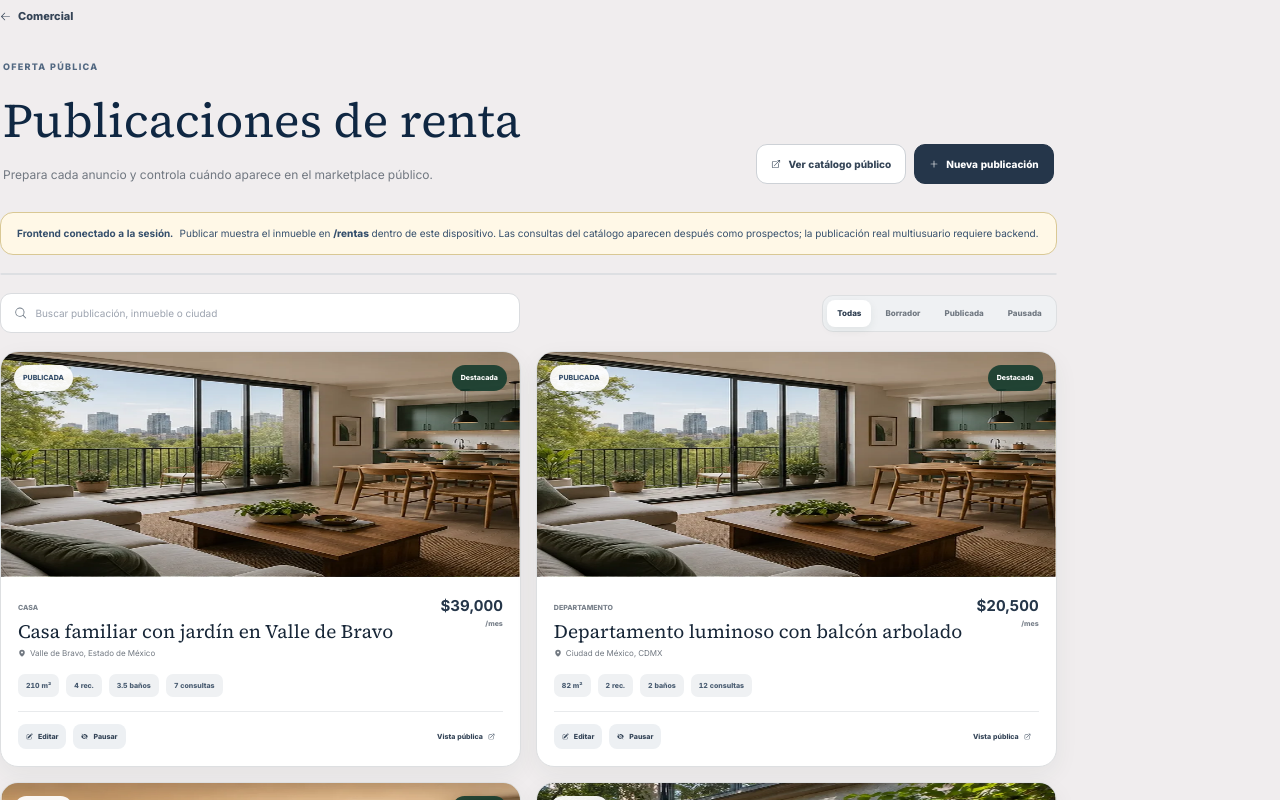
Test: RentalListingsPage › abre el editor con inventario disponible
Click the button "Nueva publicación" at (984, 164), box [914,144,1054,184]
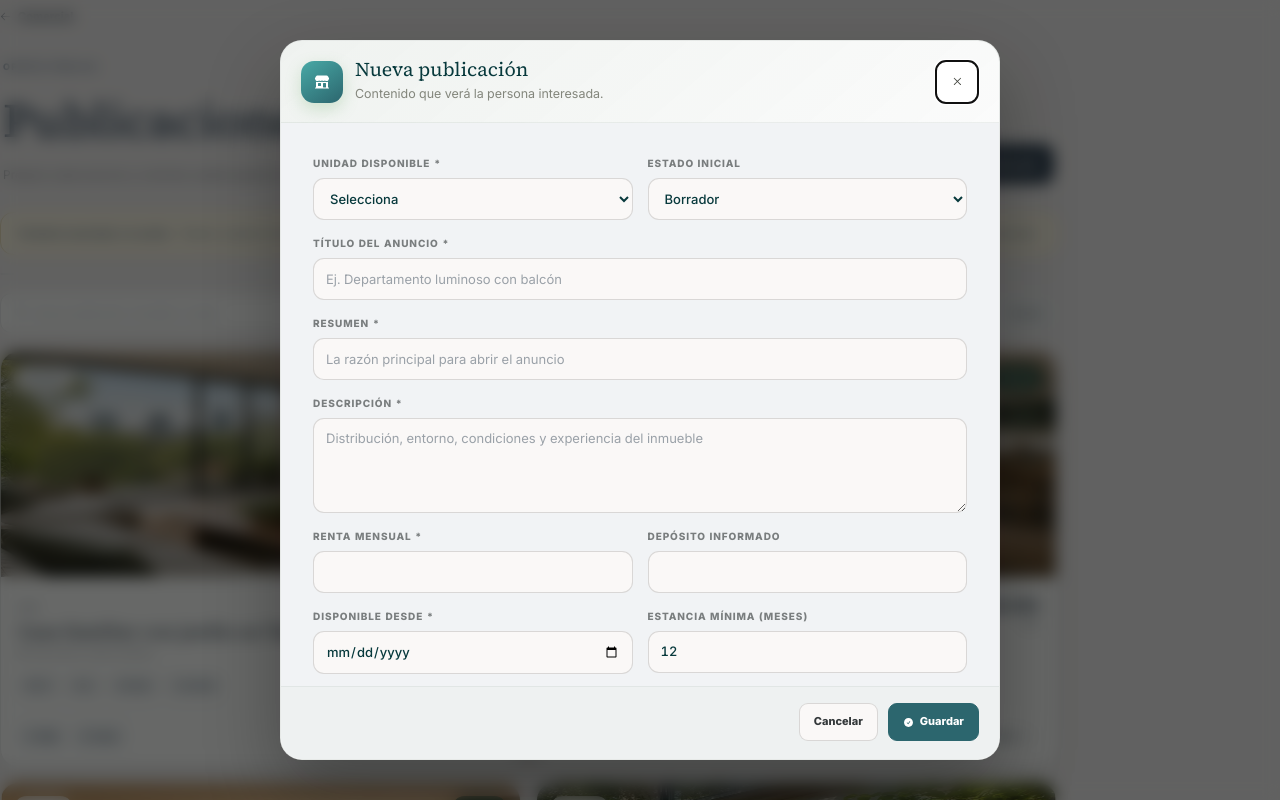
Result: the dialog "Nueva publicación" is shown at [280,40,1000,760]
Result: the dropdown labelled "Unidad disponible *" is shown at [313,178,632,220]
Result: the field labelled "Título del anuncio *" is shown at [313,258,967,300]
